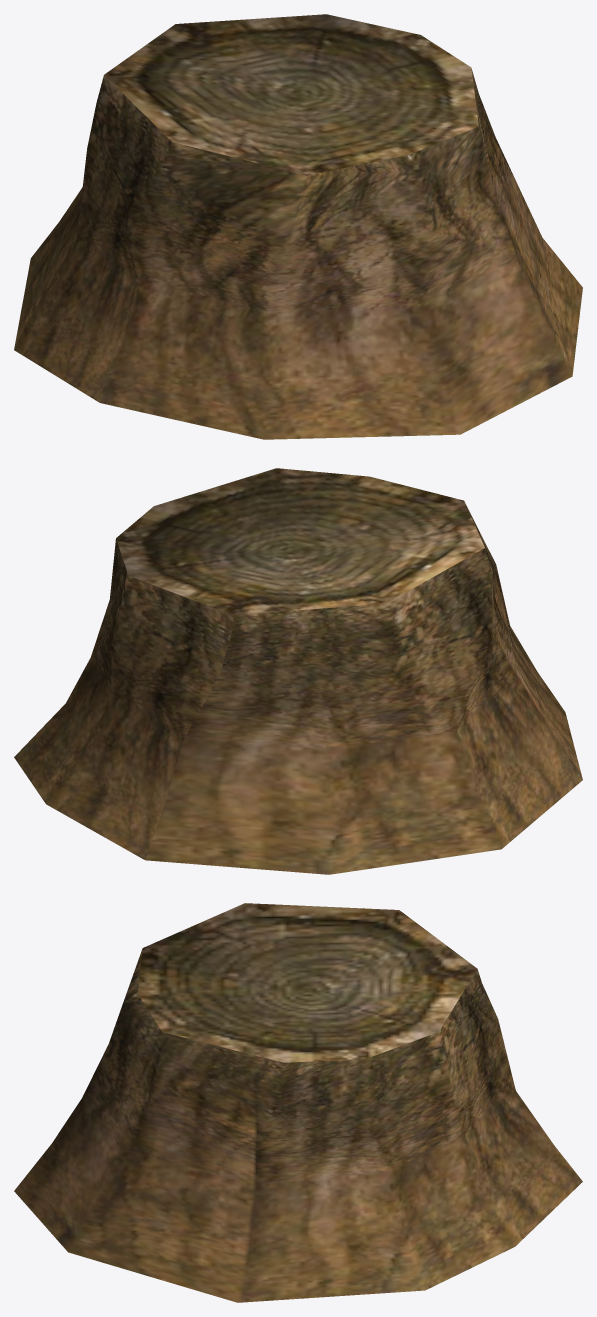
The model's file is w_cd_stumpp03.glb.
3 renders of one model, top to bottom at view 1: azimuth 30°, elevation 25°; view 2: azimuth 150°, elevation 25°; view 3: azimuth 270°, elevation 25°, orthographic. The views are drawn at different scales.
Parts seen in each view (by area): view 1: w_cd_stumpP03; view 2: w_cd_stumpP03; view 3: w_cd_stumpP03.
Boxes of the visible parts, x1,y1,x2,y2 form: w_cd_stumpP03: (14, 14, 582, 439); w_cd_stumpP03: (14, 468, 582, 874); w_cd_stumpP03: (14, 903, 582, 1302).
Bounding box in the file's own units: 7.46 × 3.5 × 8.2.
Materials: 1 (1 with a texture image).
